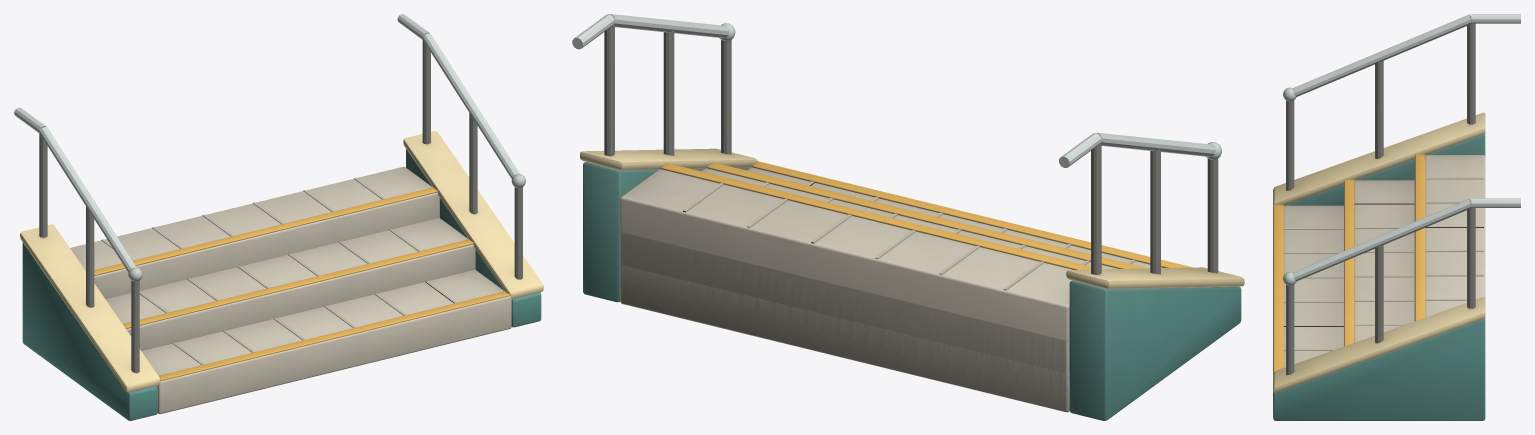
The model's file is MarketSteps.fbx.
3 views of the same model, side by side, from view 1: azimuth 30°, elevation 25°; view 2: azimuth 150°, elevation 25°; view 3: azimuth 270°, elevation 25° (orthographic). The views are drawn at different scales.
Parts seen in each view (by area): view 1: MarketSteps; view 2: MarketSteps; view 3: MarketSteps.
Part boxes in pixels (x1,y1,x2,y2): MarketSteps: (14, 14, 543, 420); MarketSteps: (572, 14, 1244, 420); MarketSteps: (1273, 14, 1520, 420).
Bounding box in the file's own units: 336 × 169 × 175.
